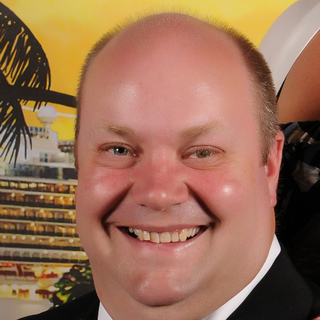eye: (181, 141, 227, 164), (97, 139, 141, 163)
